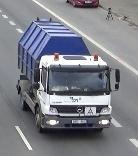Truck: (16, 18, 120, 132)
